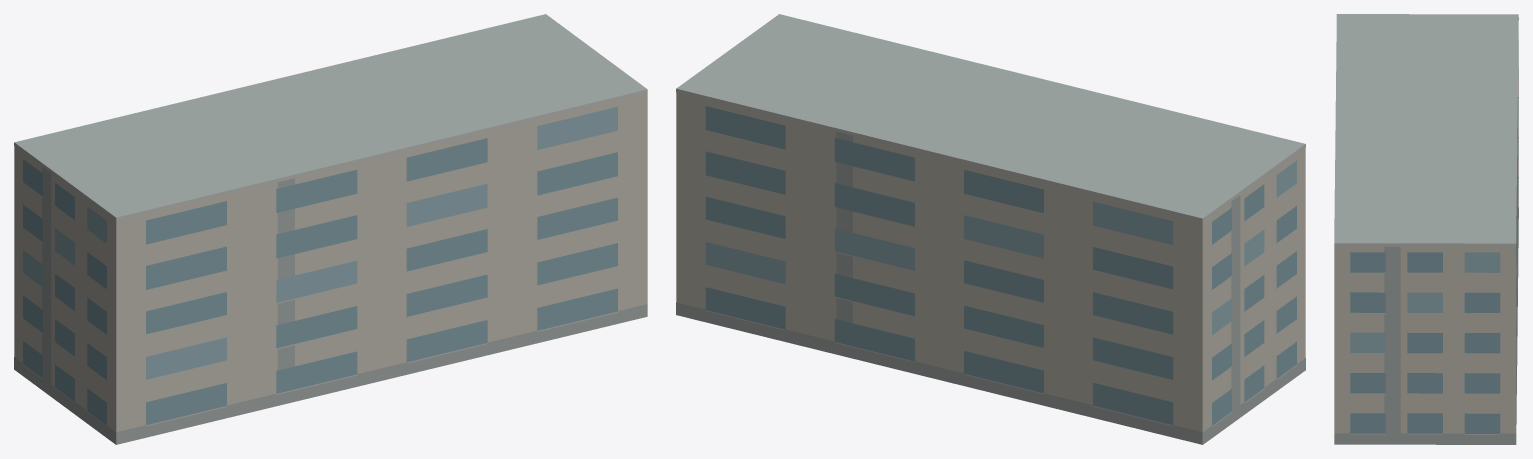
Rendered from residential-b528ecb9-98a9-4f57-9c05-68987440897f.glb.
3 views of the same model, side by side, from view 1: azimuth 30°, elevation 25°; view 2: azimuth 150°, elevation 25°; view 3: azimuth 270°, elevation 25° (orthographic). The views are drawn at different scales.
Parts seen in each view (by area): view 1: residential-b528ecb9-98a9-4f57-9c05-68987440897f.tmp; view 2: residential-b528ecb9-98a9-4f57-9c05-68987440897f.tmp; view 3: residential-b528ecb9-98a9-4f57-9c05-68987440897f.tmp.
Part boxes in pixels (bbox=[...]): residential-b528ecb9-98a9-4f57-9c05-68987440897f.tmp: bbox=[14, 14, 647, 444]; residential-b528ecb9-98a9-4f57-9c05-68987440897f.tmp: bbox=[676, 14, 1305, 444]; residential-b528ecb9-98a9-4f57-9c05-68987440897f.tmp: bbox=[1334, 14, 1518, 444].
Size of the model in its own units: 37.3 by 15.25 by 12.68.
